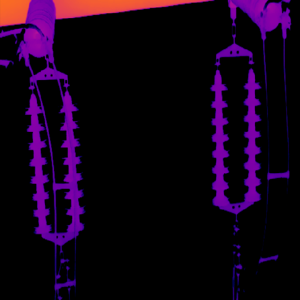insulator: (23, 91, 51, 235), (60, 88, 84, 233), (209, 69, 231, 208), (242, 67, 261, 203), (21, 0, 57, 56)
